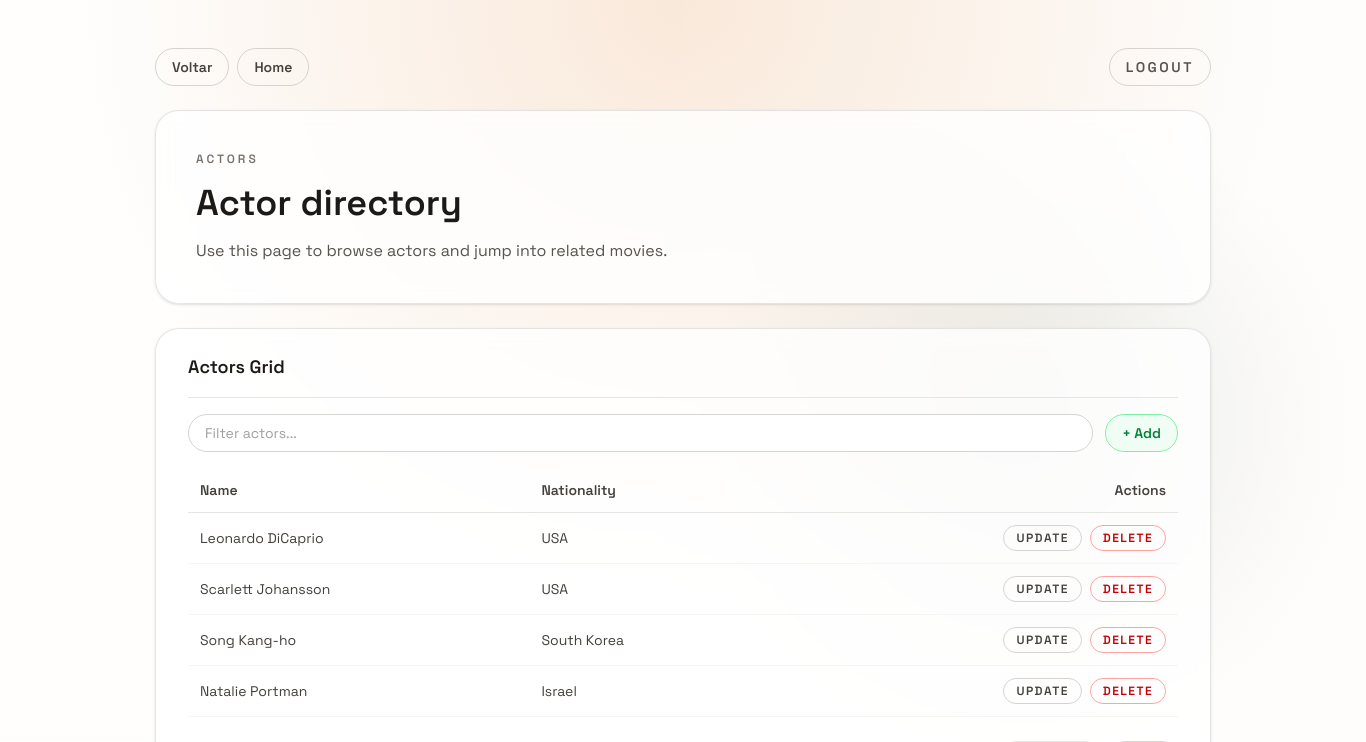
Test: ActorsPage › shows movies grid when an actor is selected
Click the text "Leonardo DiCaprio" at (262, 538), box 188,512 -> 529,564
(page scrolled)
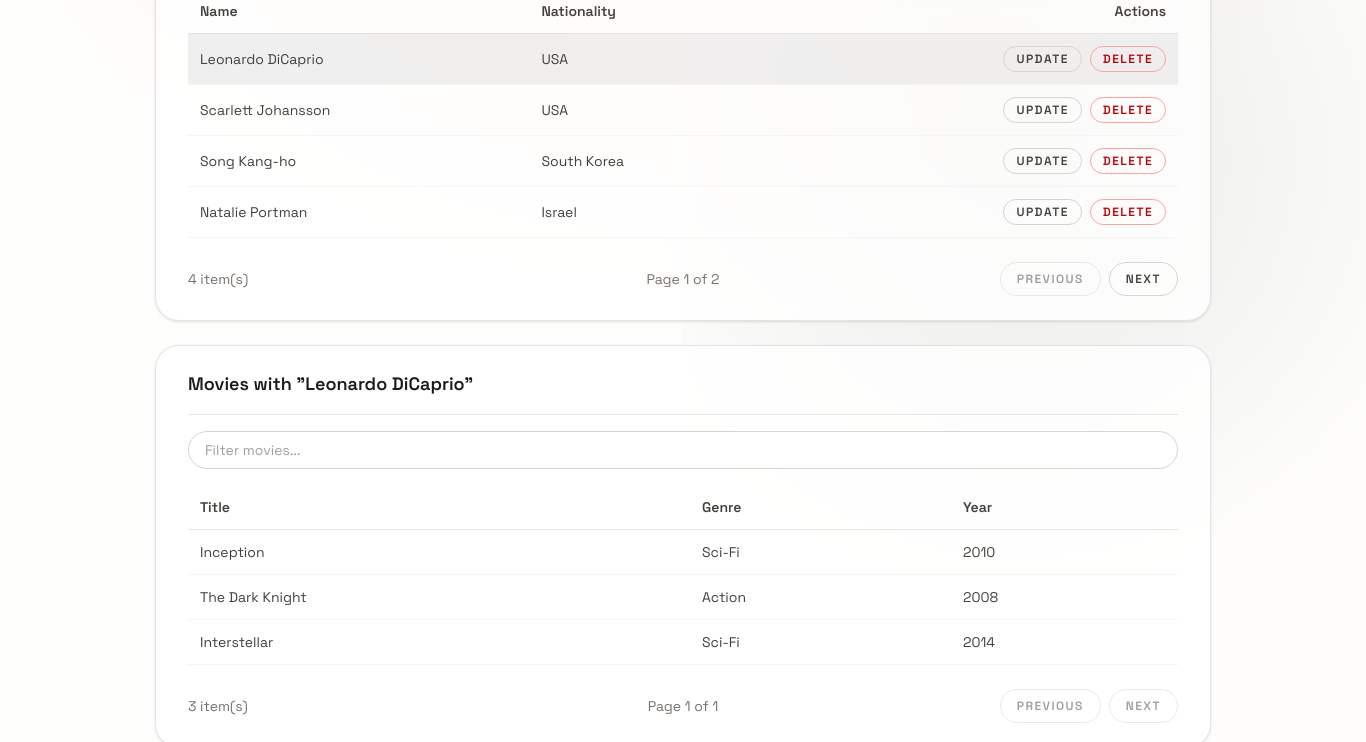
Expected: the heading "Movies with \"Leonardo DiCaprio\"" is shown, 188,372 -> 473,395
